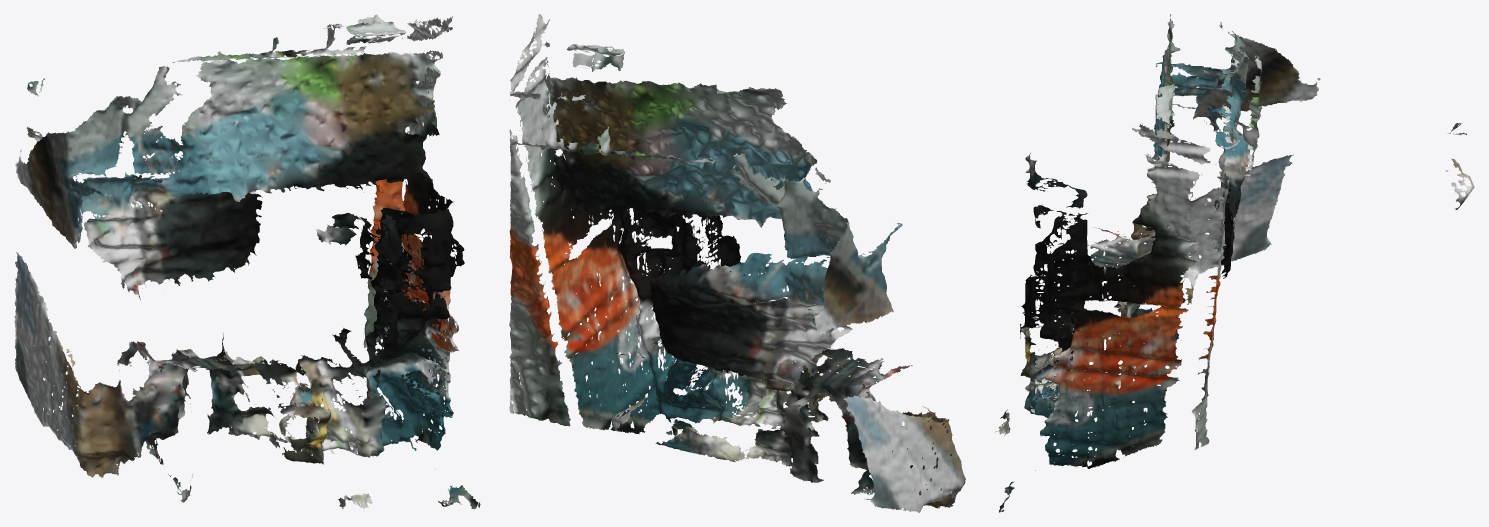
Rendered from color_model_f003_20251226_165911.obj.
3 renders of one model, left to right at view 1: azimuth 30°, elevation 25°; view 2: azimuth 150°, elevation 25°; view 3: azimuth 270°, elevation 25°, orthographic. The views are drawn at different scales.
Size of the model in its own units: 2.33 by 2.49 by 2.63.
